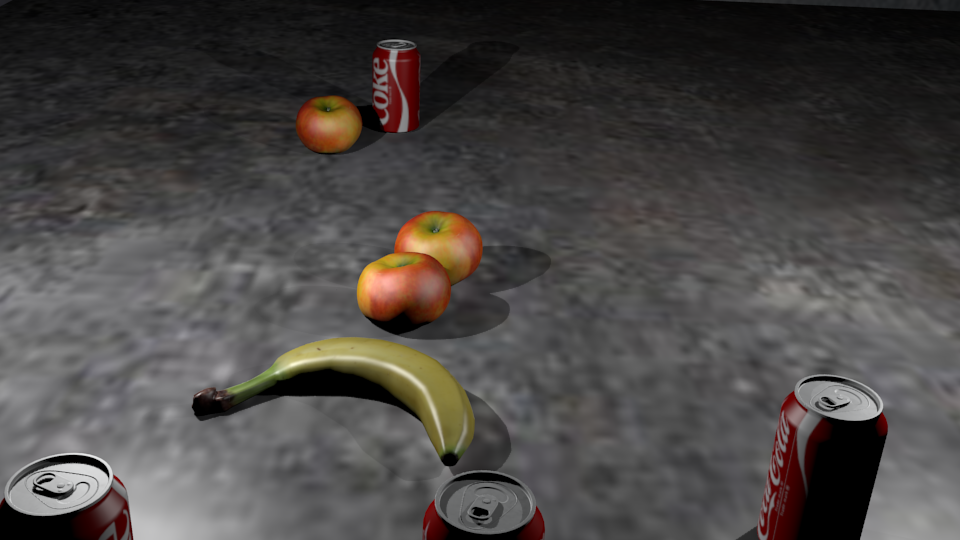apple: (395, 211, 483, 284), (357, 252, 451, 319), (775, 401, 845, 465), (297, 97, 362, 152)
banana: (192, 338, 475, 460), (288, 276, 458, 448), (372, 191, 551, 331), (1, 337, 186, 408), (166, 209, 337, 264)
cola_can: (757, 375, 888, 540), (1, 453, 134, 540), (423, 471, 545, 540), (374, 40, 420, 132)
orange: (9, 460, 103, 540), (278, 377, 369, 451), (259, 387, 329, 452), (166, 200, 228, 257), (115, 39, 180, 91), (1, 524, 37, 540), (795, 530, 847, 540)
